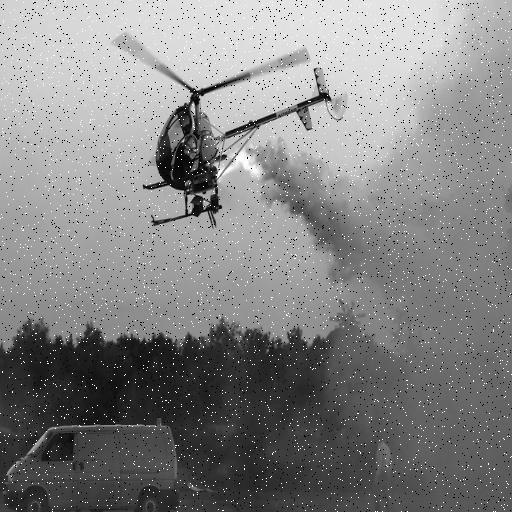helicopter: (109, 36, 358, 227)
